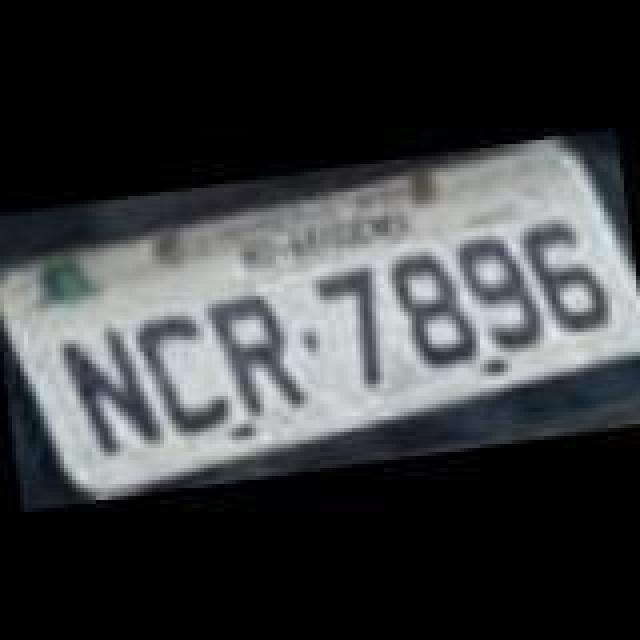6: (522, 214, 614, 338)
7: (314, 264, 398, 400)
8: (384, 248, 480, 376)
9: (448, 232, 544, 360)
C: (140, 304, 244, 440)
N: (54, 316, 170, 468)
R: (208, 280, 312, 424)
